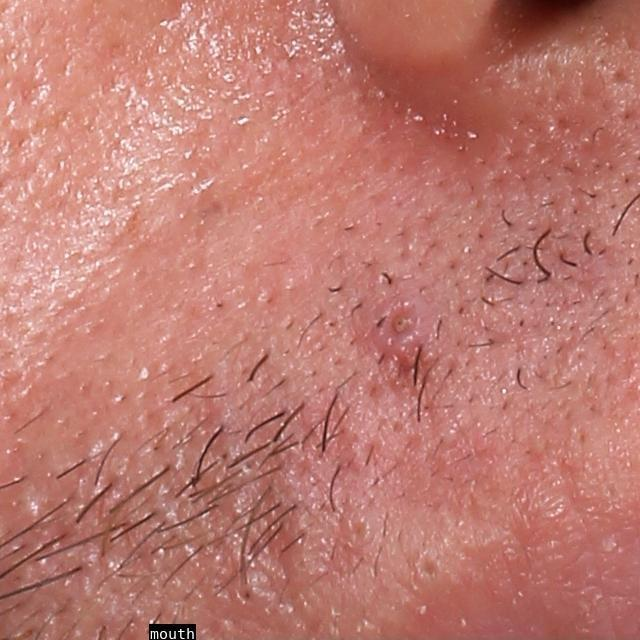comedo: (412, 553, 450, 589)
